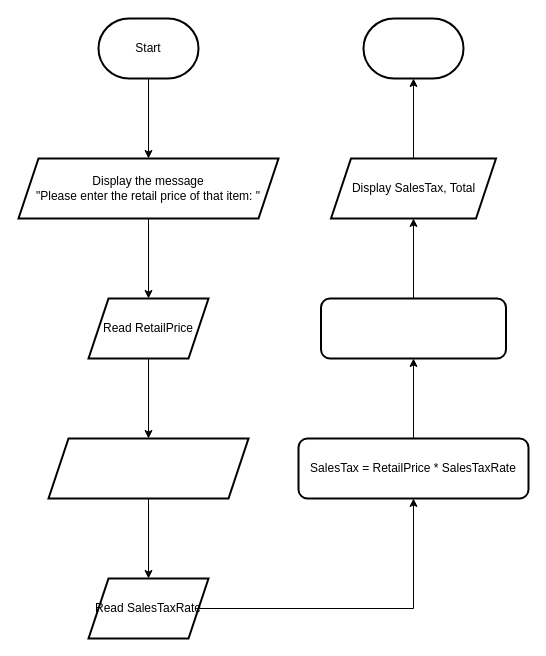
This 546x656 diagram has some shape labels left out. The centre of each missing label's shape, as x and y in pixels:
Display the message "Please enter the sales tax rate": point 148,468
End: point 413,48
Total = RetailPrice + SalesTax: point 413,328
